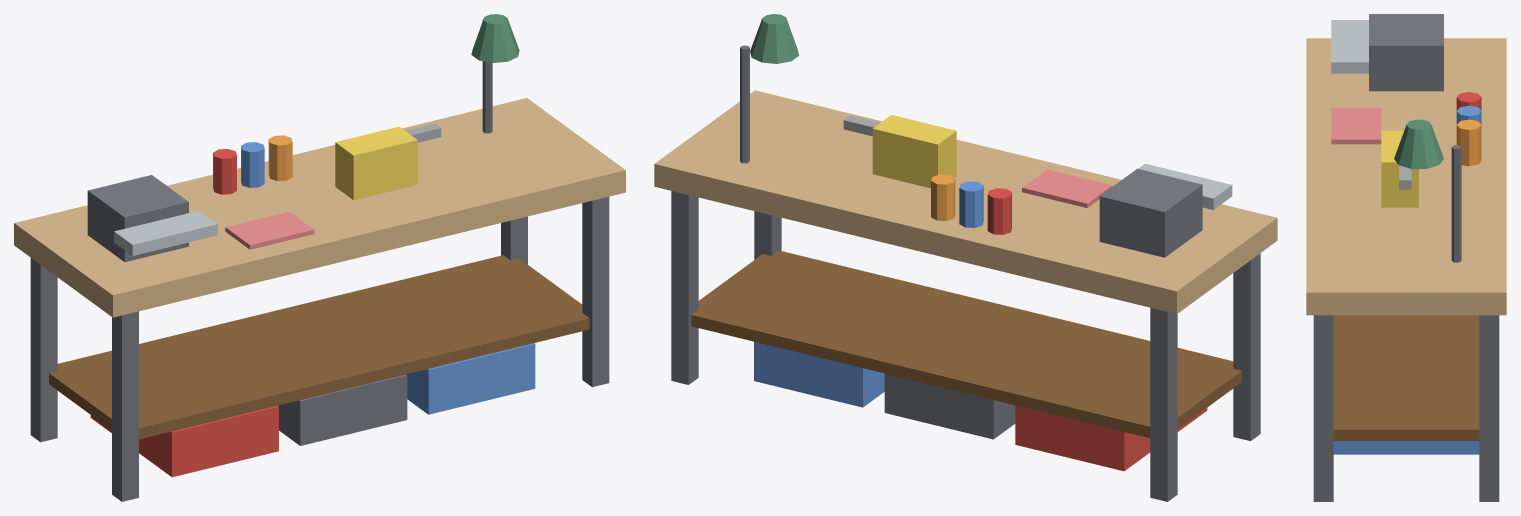
The model's file is workshop_bench.glb.
3 renders of one model, left to right at view 1: azimuth 30°, elevation 25°; view 2: azimuth 150°, elevation 25°; view 3: azimuth 270°, elevation 25°, orthographic.
Parts seen in each view (by area): view 1: workshop_bench; view 2: workshop_bench; view 3: workshop_bench.
Boxes of the visible parts, x1,y1,x2,y2 form: workshop_bench: (14, 14, 625, 501); workshop_bench: (654, 14, 1277, 501); workshop_bench: (1306, 14, 1506, 501).
Size of the model in its own units: 2.4 by 1.53 by 0.8.
